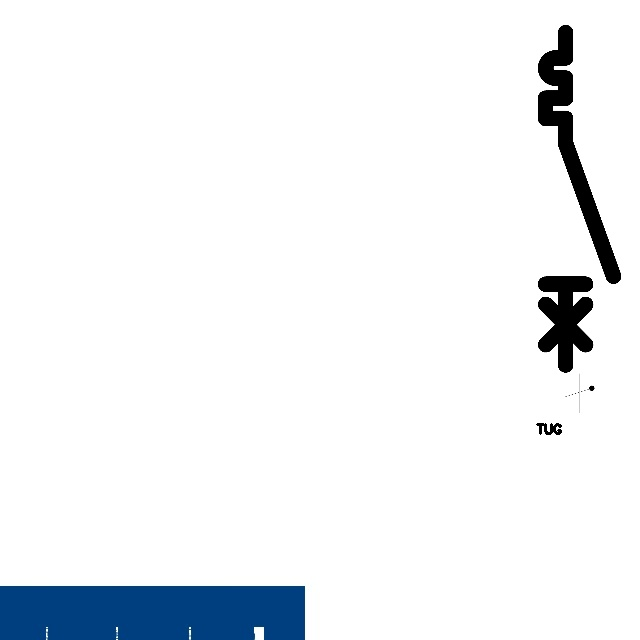interruptor_termomagnetico: (537, 24, 622, 373)
